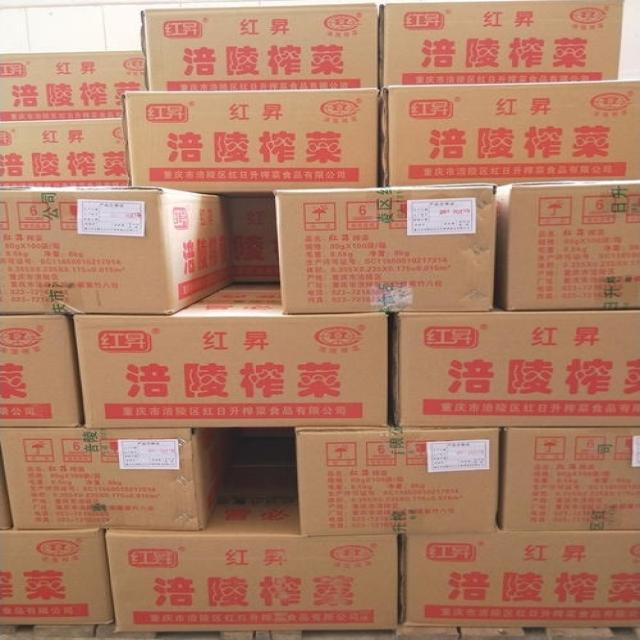Carton: (0, 191, 384, 422), (0, 533, 394, 631), (282, 185, 493, 314), (401, 312, 639, 425), (384, 85, 639, 184), (128, 89, 378, 187), (403, 530, 639, 628), (288, 430, 495, 532), (8, 428, 201, 531), (383, 0, 620, 83), (146, 2, 371, 88), (506, 184, 639, 307), (502, 430, 639, 524)
